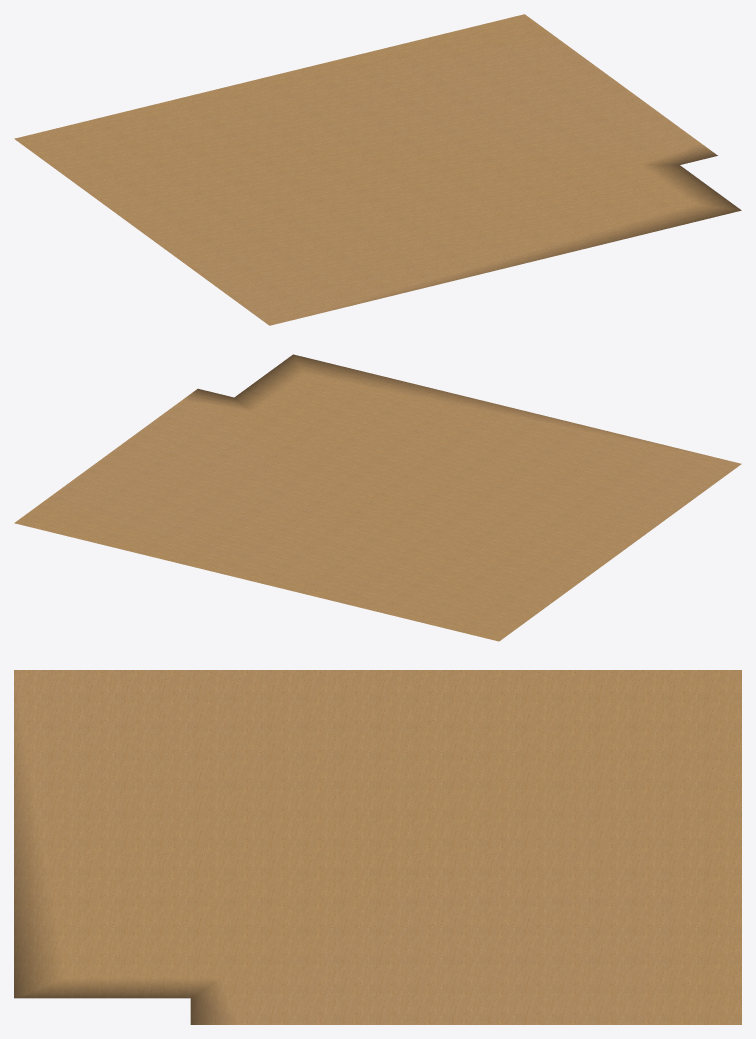
The model's file is Zone04_ExtraLand.glb.
3 renders of one model, top to bottom at view 1: azimuth 30°, elevation 25°; view 2: azimuth 150°, elevation 25°; view 3: azimuth 270°, elevation 25°, orthographic. The views are drawn at different scales.
Parts seen in each view (by area): view 1: ZONE04_EXTRALAND; view 2: ZONE04_EXTRALAND; view 3: ZONE04_EXTRALAND.
Part boxes in pixels (x1,y1,x2,y2): ZONE04_EXTRALAND: [14, 14, 741, 325]; ZONE04_EXTRALAND: [14, 354, 741, 641]; ZONE04_EXTRALAND: [14, 670, 741, 1024].
Size of the model in its own units: 120 by 0 by 104.
Materials: 1 (1 with a texture image).
